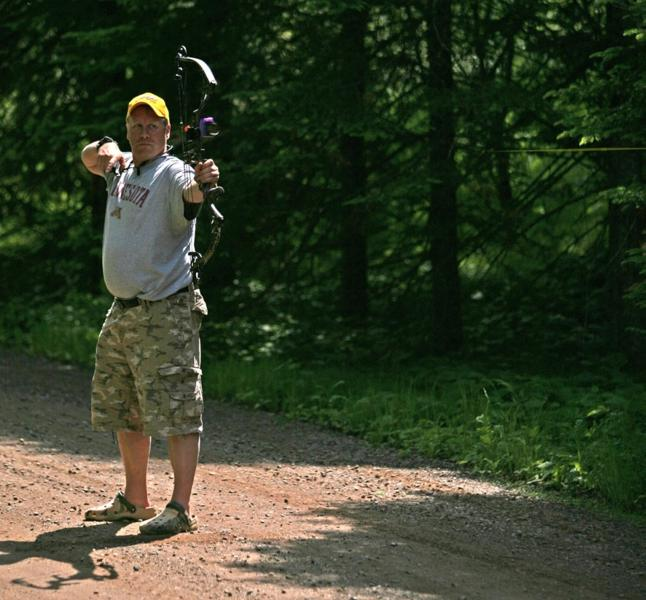person: (80, 87, 224, 538)
